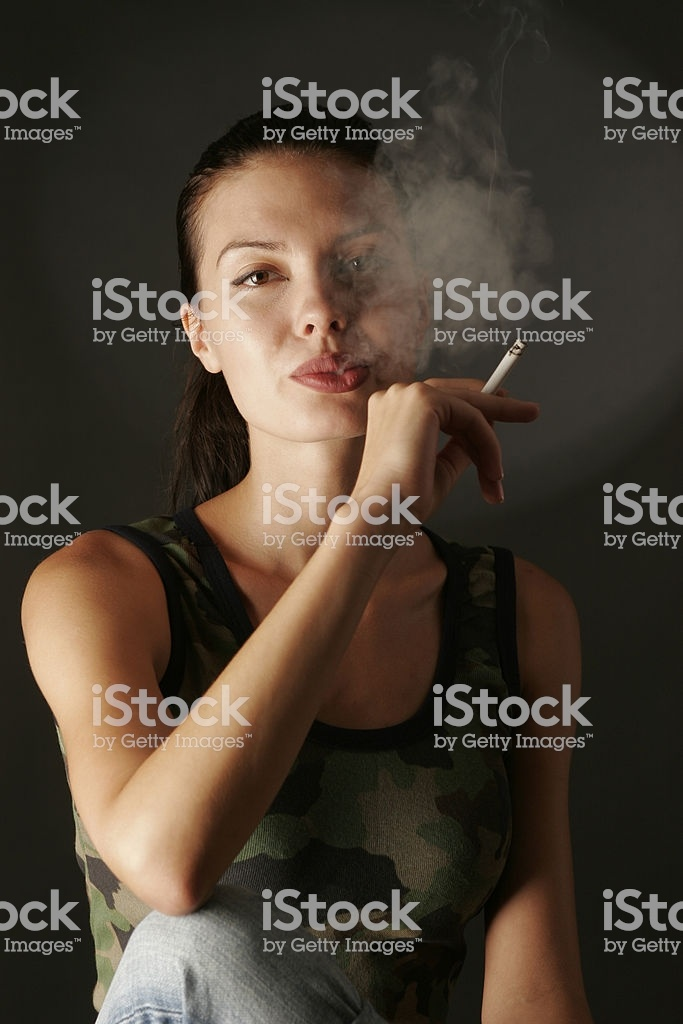sigaretta: (466, 327, 533, 419)
